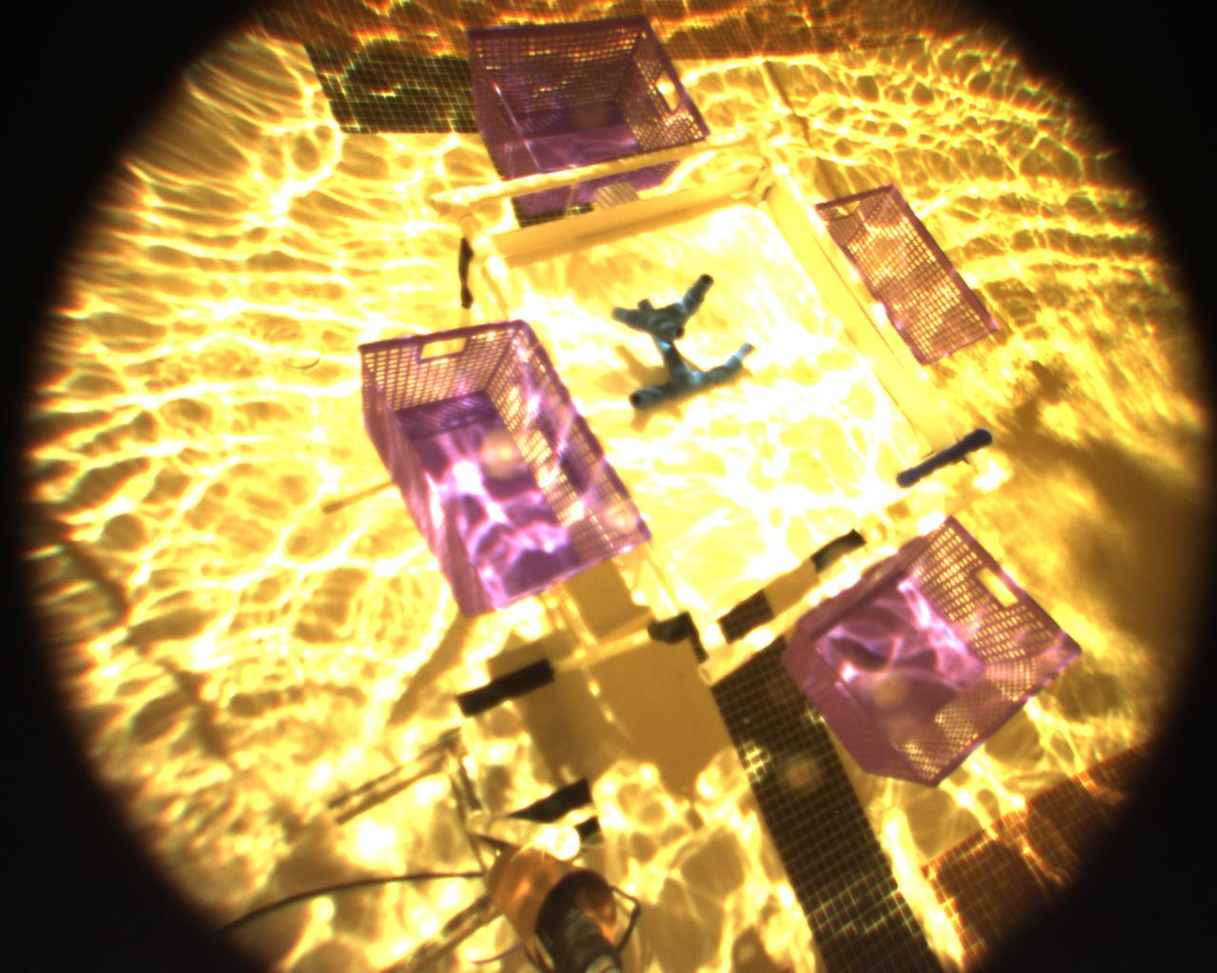coral: (606, 259, 777, 422), (904, 394, 1008, 480)
coral-box-top: (479, 178, 989, 595)
